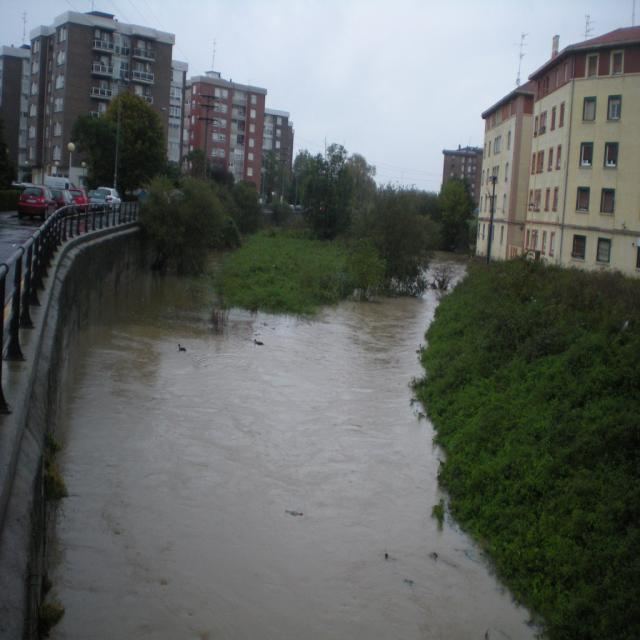car: (17, 179, 56, 219)
